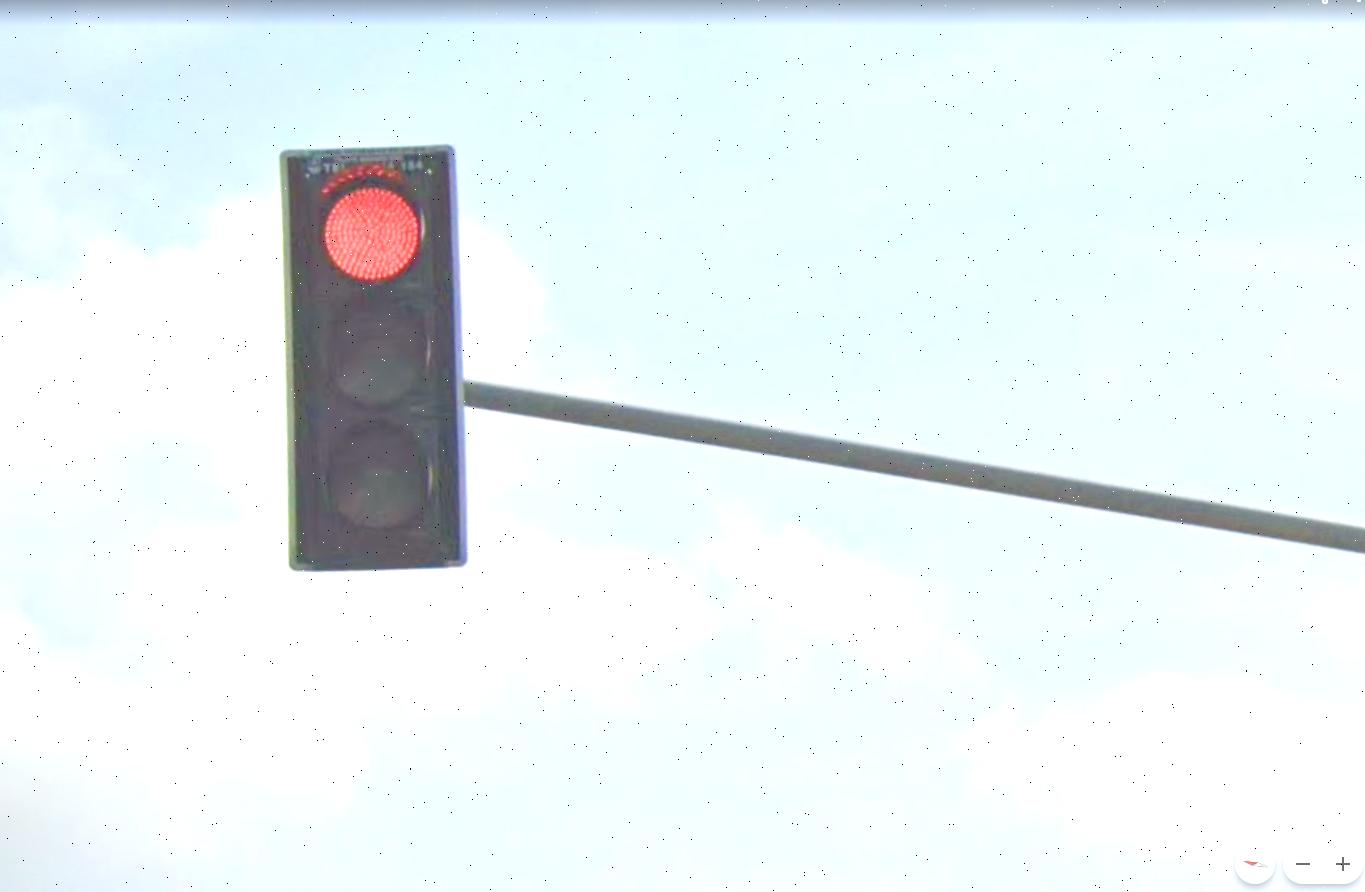redlight: (286, 149, 457, 557)
